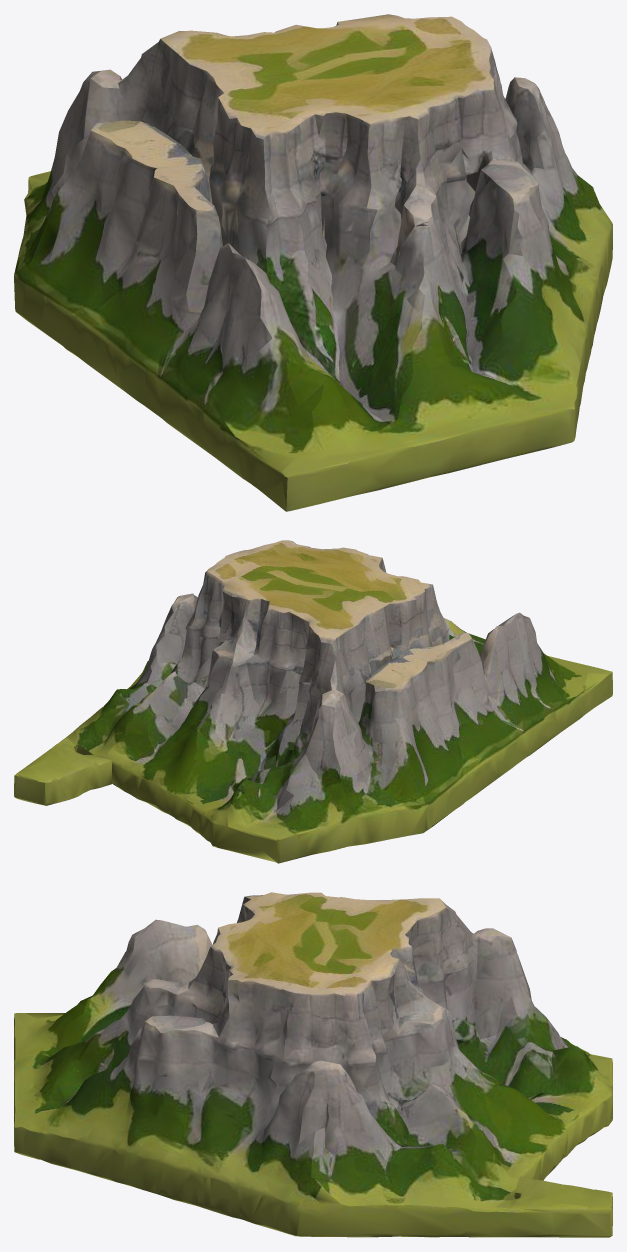
Rendered from table-mountain.glb.
The picture shows the model from 3 angles, top to bottom: view 1: azimuth 30°, elevation 25°; view 2: azimuth 150°, elevation 25°; view 3: azimuth 270°, elevation 25°; orthographic projection. The views are drawn at different scales.
Parts seen in each view (by area): view 1: logan-textured.obj; view 2: logan-textured.obj; view 3: logan-textured.obj.
Boxes of the visible parts, box(x1,y1,x2,y2) form: logan-textured.obj: box(14, 14, 612, 511); logan-textured.obj: box(14, 540, 612, 863); logan-textured.obj: box(14, 892, 612, 1237).
Bounding box in the file's own units: 0.7801 × 0.3693 × 1.
Materials: 1 (1 with a texture image).
